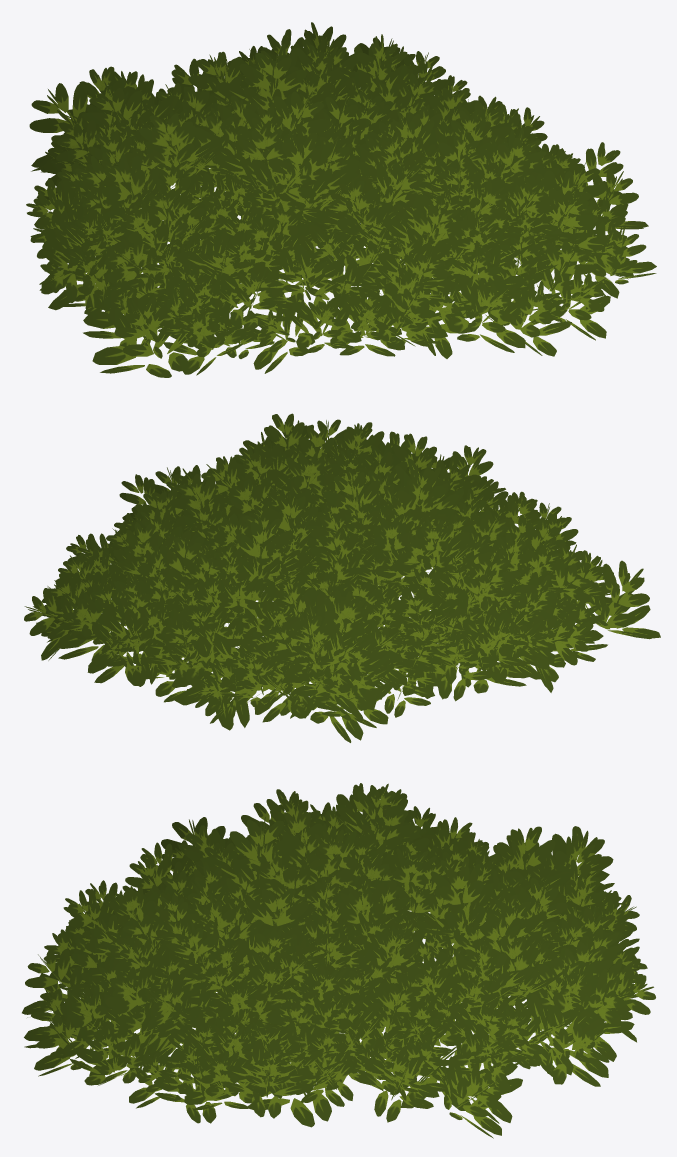
The model's file is SM_Env_Bush_Tropical_03.fbx.
3 views of the same model, one above another, from view 1: azimuth 30°, elevation 25°; view 2: azimuth 150°, elevation 25°; view 3: azimuth 270°, elevation 25° (orthographic). The views are drawn at different scales.
Parts seen in each view (by area): view 1: SM_Env_Bush_Tropical_03_LOD0; view 2: SM_Env_Bush_Tropical_03_LOD0; view 3: SM_Env_Bush_Tropical_03_LOD0.
Boxes of the visible parts, <box> form: SM_Env_Bush_Tropical_03_LOD0: <box>26,22,656,377</box>; SM_Env_Bush_Tropical_03_LOD0: <box>24,413,660,742</box>; SM_Env_Bush_Tropical_03_LOD0: <box>22,783,655,1138</box>.
Size of what is drawn, in the model's own units: 423 by 140 by 419.
